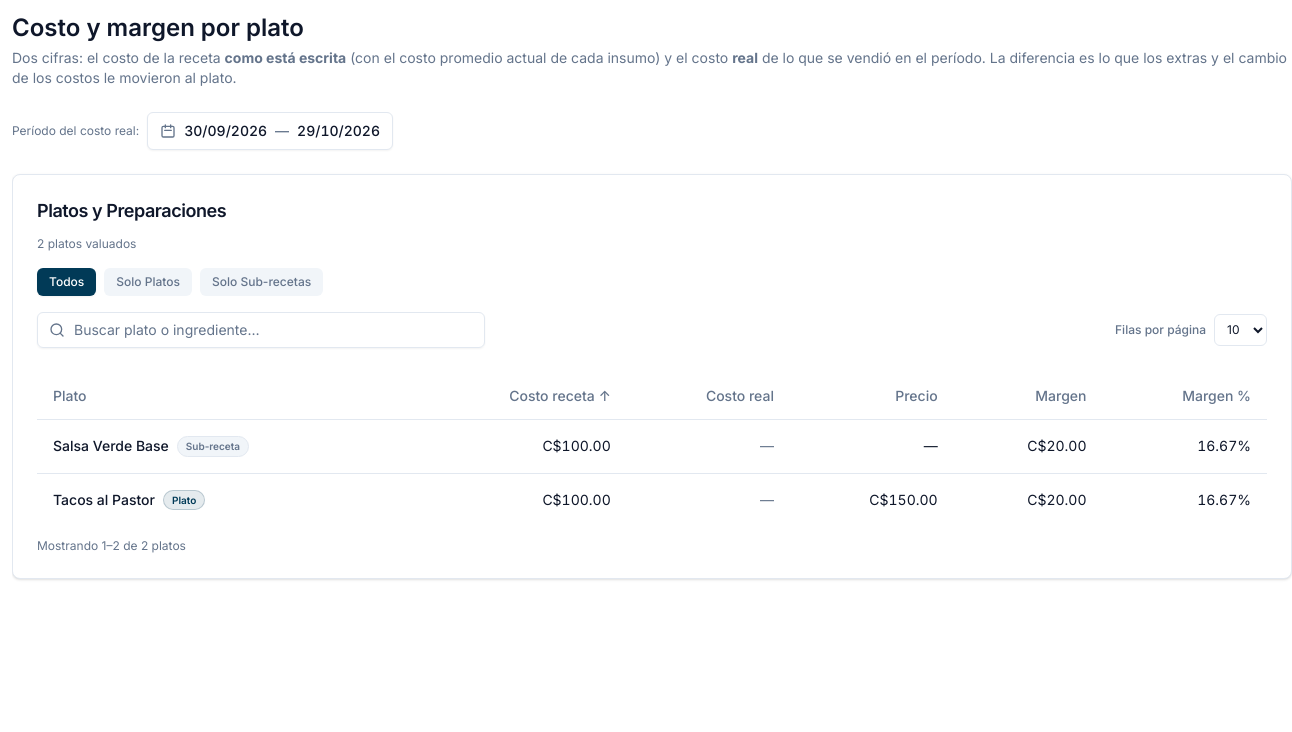
Scenario: DishMarginsPage (R8) › renders distinct badges for Platos vs Sub-recetas and supports type filtering (R20 / S17)
Expected: the text "Tacos al Pastor" is shown, [53,490,155,510]
Expected: the text "Salsa Verde Base" is shown, [53,436,169,456]
# Filter Solo Platos
Click the button "Solo Platos": [148, 282] box [104,268,192,296]
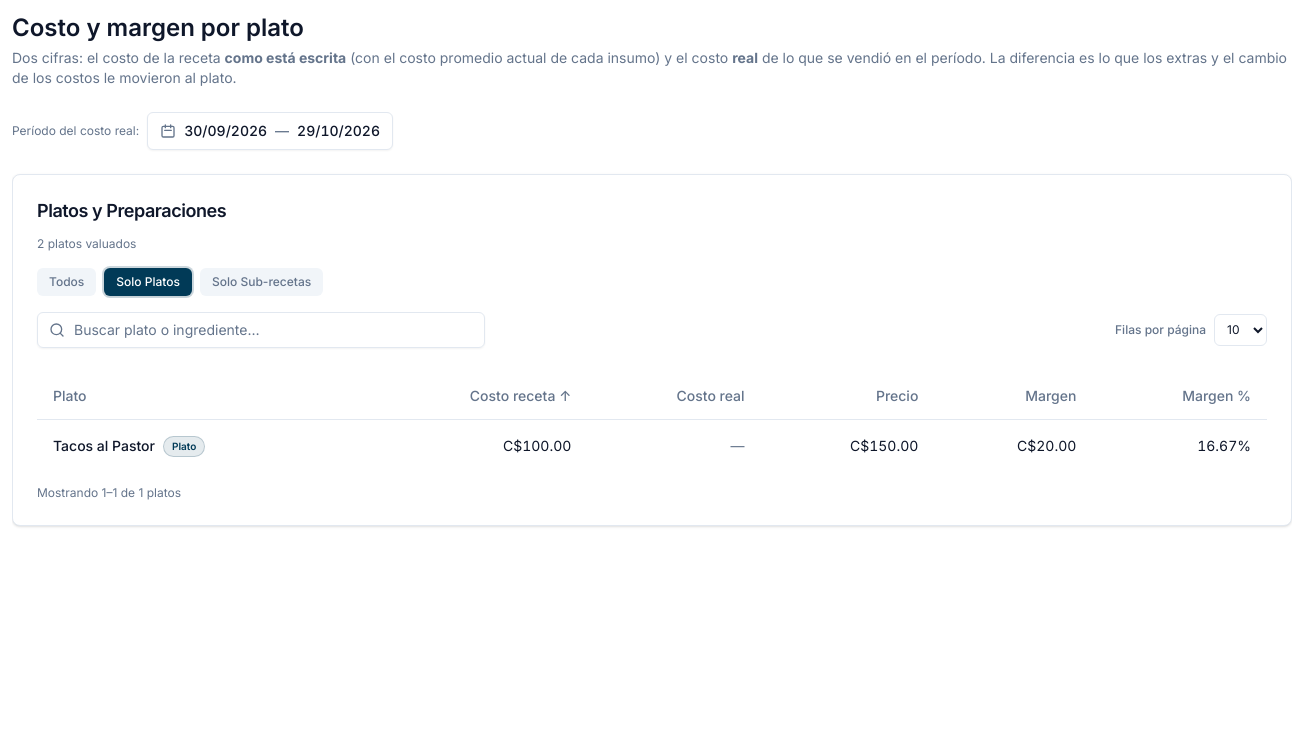
Expected: the text "Tacos al Pastor" is shown, [53,436,155,456]
Expected: the text "Salsa Verde Base" is gone
# Filter Solo Sub-recetas
Click the button "Solo Sub-recetas": [262, 282] box [200,268,323,296]
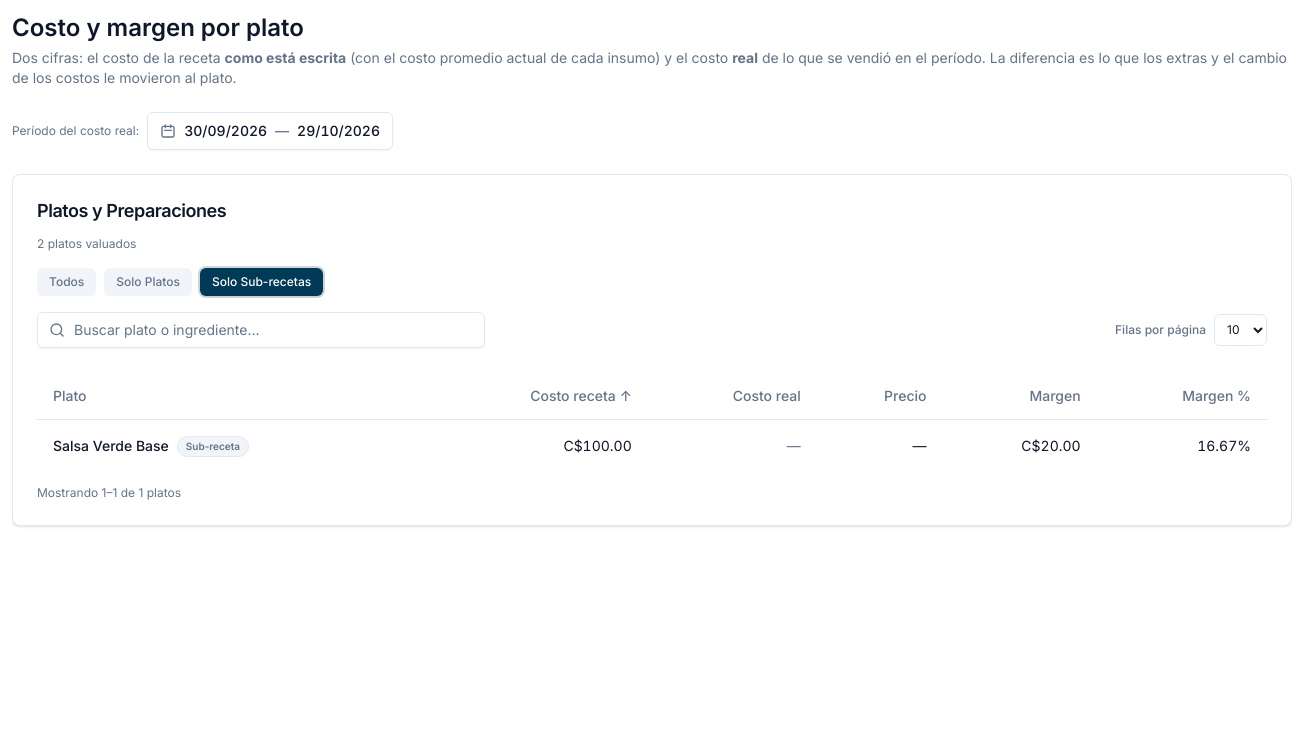
Expected: the text "Salsa Verde Base" is shown, [53,436,169,456]
Expected: the text "Tacos al Pastor" is gone
